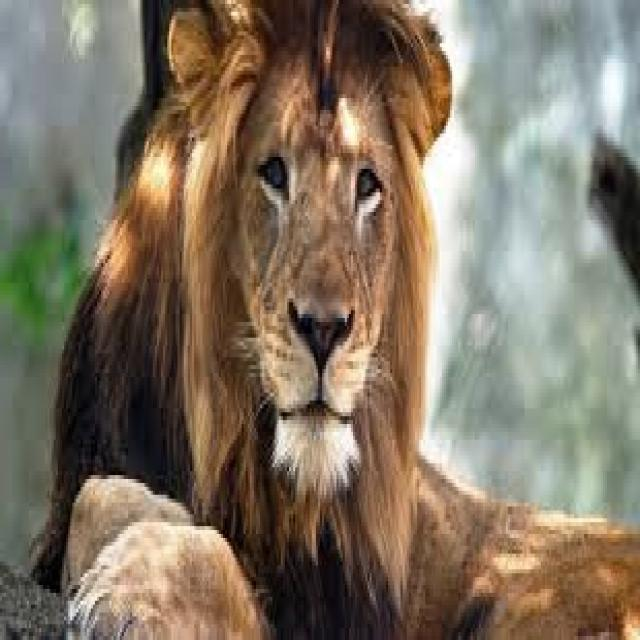lion: (33, 0, 640, 636)
